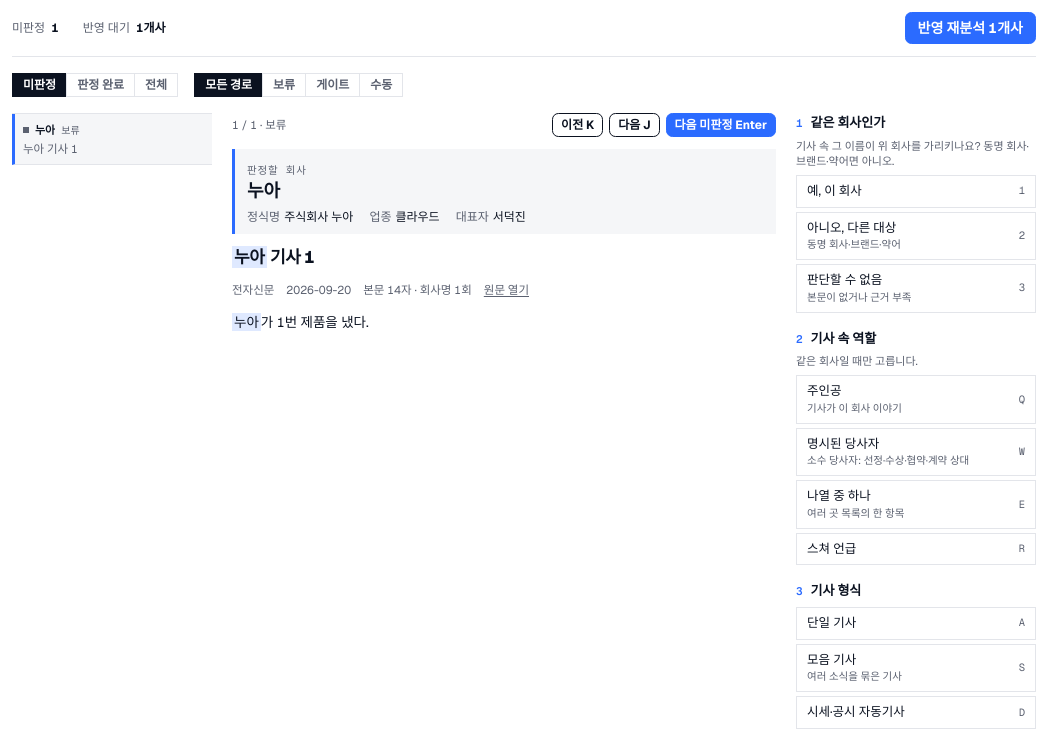
Test: JudgmentWorkbench › puts the pending companies back through the batch with force
Step 1. Click the button "반영 재분석 1개사" → (970, 28), box [904, 12, 1036, 44]
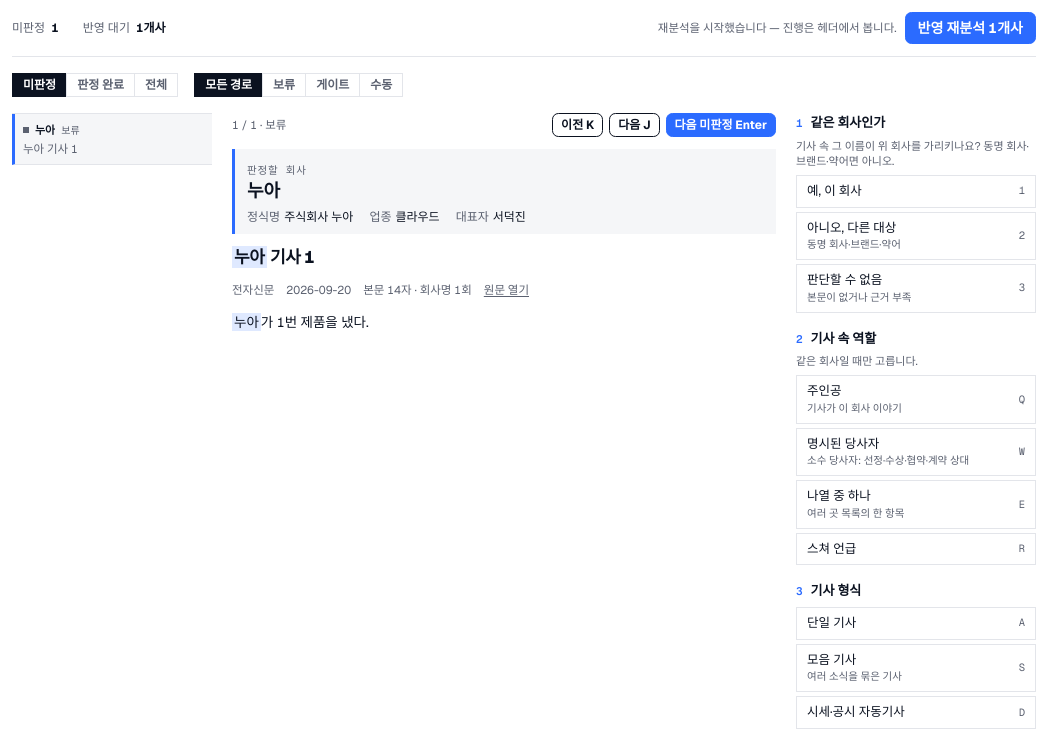
Now the text "재분석을 시작했습니다 — 진행은 헤더에서 봅니다." is shown, box [658, 19, 896, 37]
